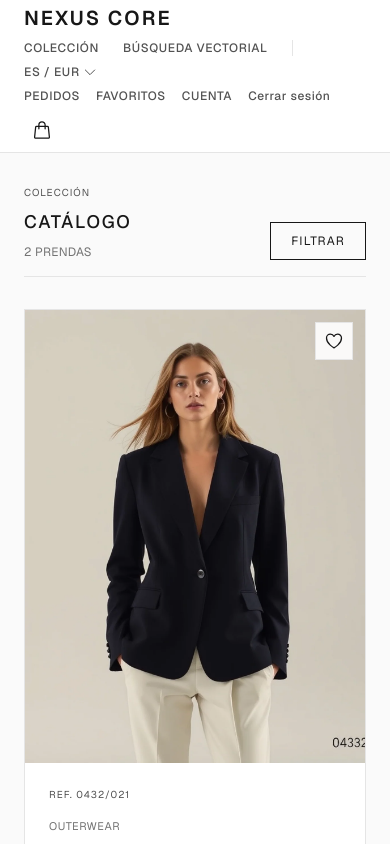
it: CatalogPage › R4 — el botón «Filtrar» abre el panel en móvil con el mismo componente
Click the button "Filtrar" at (318, 241), box x1=270 y1=222 x2=366 y2=260
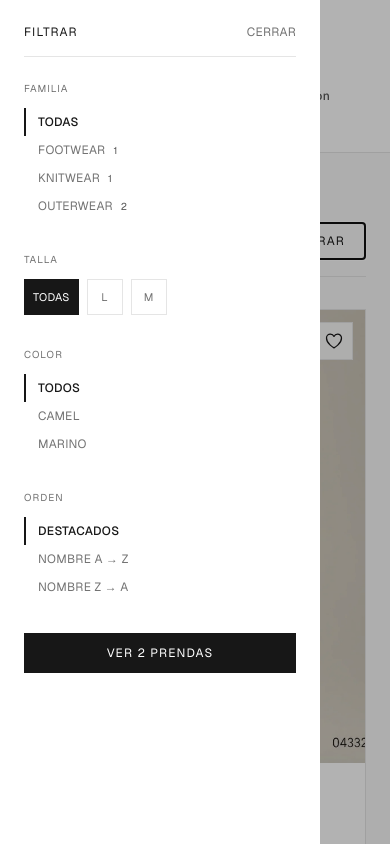
Check: the dialog named "Filtros" is shown
Check: the button "Cerrar" is shown, box x1=247 y1=24 x2=296 y2=40
Check: the number of buttons "outerwear" is 2
